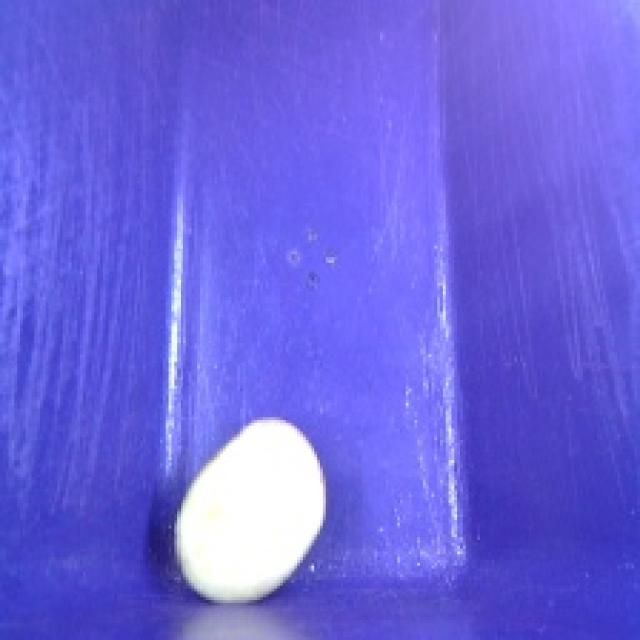potato: (153, 406, 336, 614)
